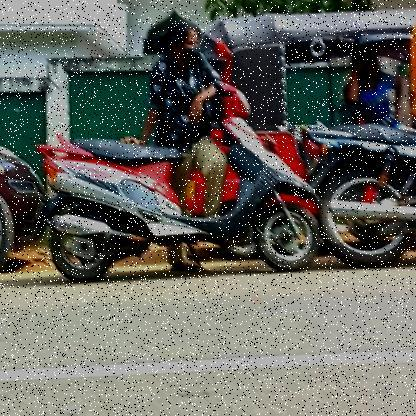motorcycle: (24, 71, 339, 280), (276, 39, 416, 270)
